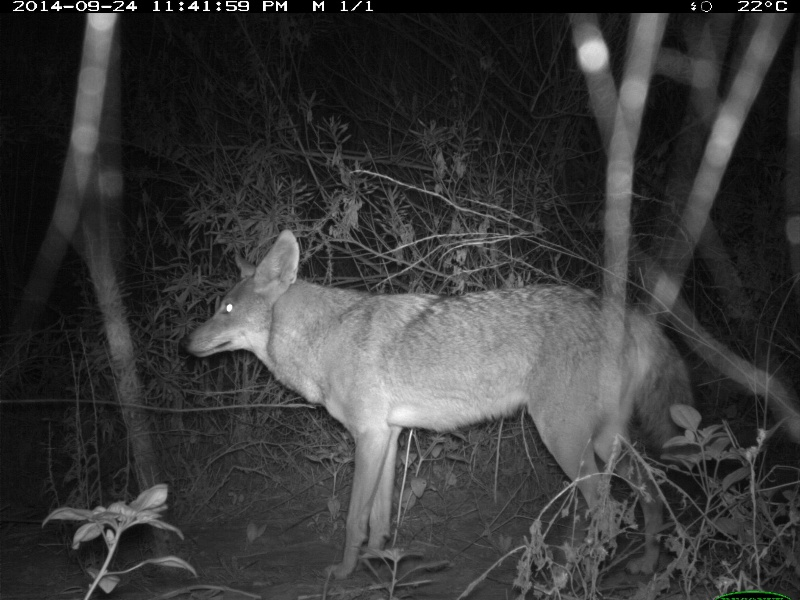coyote: (176, 226, 710, 579)
